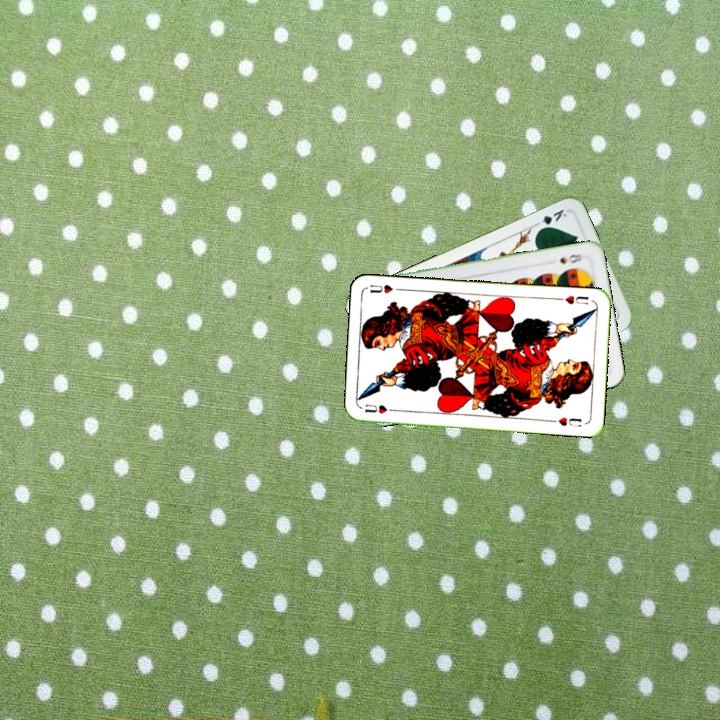GK: (531, 205, 569, 233)
HU: (361, 400, 399, 416), (554, 291, 591, 307)
S8: (556, 250, 584, 267)
